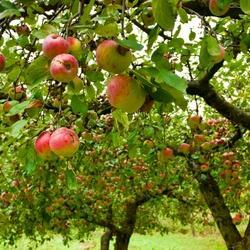apple: (105, 73, 145, 113), (94, 38, 132, 74), (49, 127, 79, 156), (48, 53, 78, 82), (41, 33, 68, 58)
